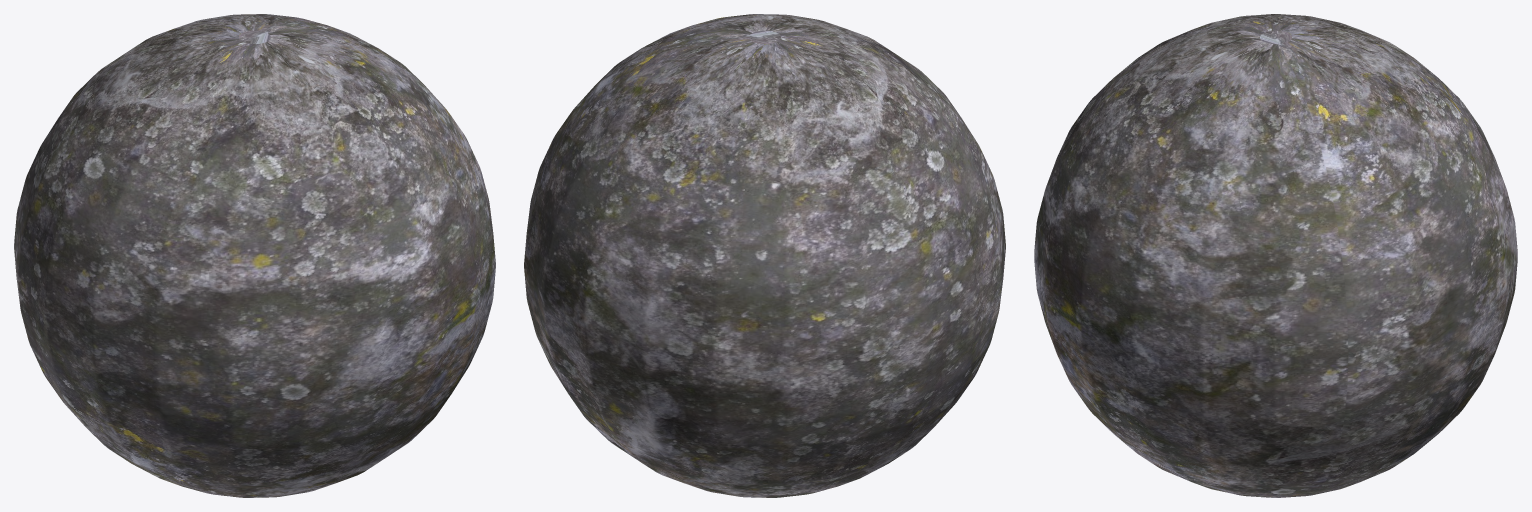
File: planet.fbx
3 views of the same model, side by side, from view 1: azimuth 30°, elevation 25°; view 2: azimuth 150°, elevation 25°; view 3: azimuth 270°, elevation 25° (orthographic).
Parts seen in each view (by area): view 1: planet; view 2: planet; view 3: planet.
Part boxes in pixels (x1,y1,x2,y2): planet: [14, 14, 495, 497]; planet: [524, 14, 1005, 497]; planet: [1034, 14, 1517, 497].
Size of the model in its own units: 25.86 by 25.79 by 25.86.
Materials: 1 (1 with a texture image).
